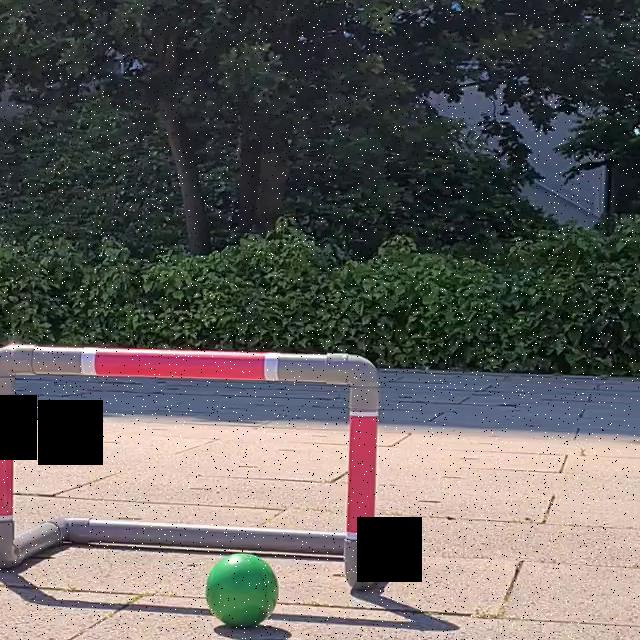ball: (202, 550, 278, 630)
